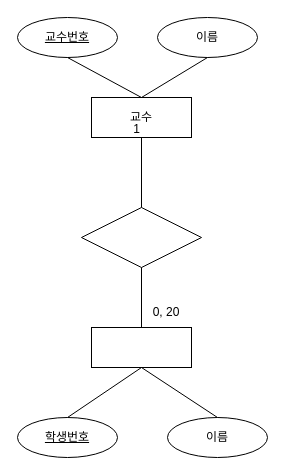
This 285x475 diagram has some shape labels left out. Here are the shapes that lost their labels. From the top down, the centre of each, then its label:
the point at 141,237: 지도하다
the point at 141,347: 학생
